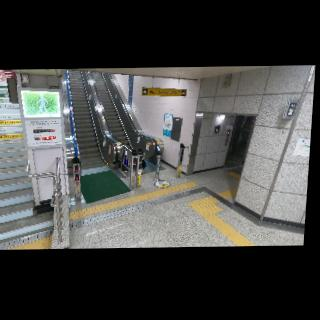anomaly: (129, 149, 151, 175)
